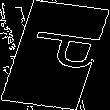P_E: (9, 31, 101, 79)
